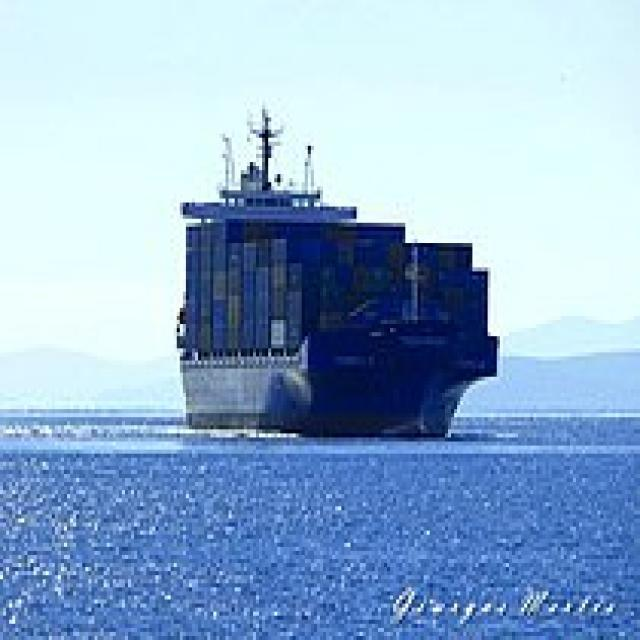Ship: (162, 123, 504, 447)
